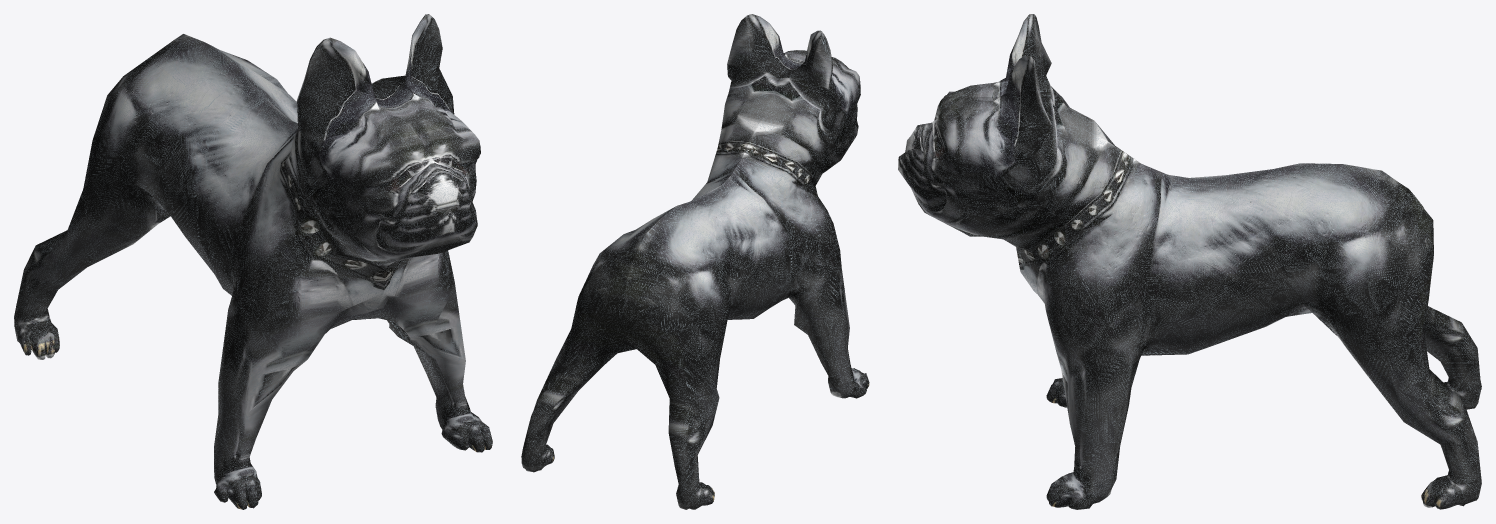
File: dog.dae
3 renders of one model, left to right at view 1: azimuth 30°, elevation 25°; view 2: azimuth 150°, elevation 25°; view 3: azimuth 270°, elevation 25°, orthographic. The views are drawn at different scales.
Visible parts, largest first — view 1: Component_1 (×2); view 2: Component_1 (×2); view 3: Component_1 (×2).
Part boxes in pixels (x1,y1,x2,y2): Component_1 (×2): (14, 14, 492, 509); Component_1 (×2): (521, 14, 869, 509); Component_1 (×2): (898, 14, 1481, 509).
Bounding box in the file's own units: 9.36 × 19.49 × 15.53.
